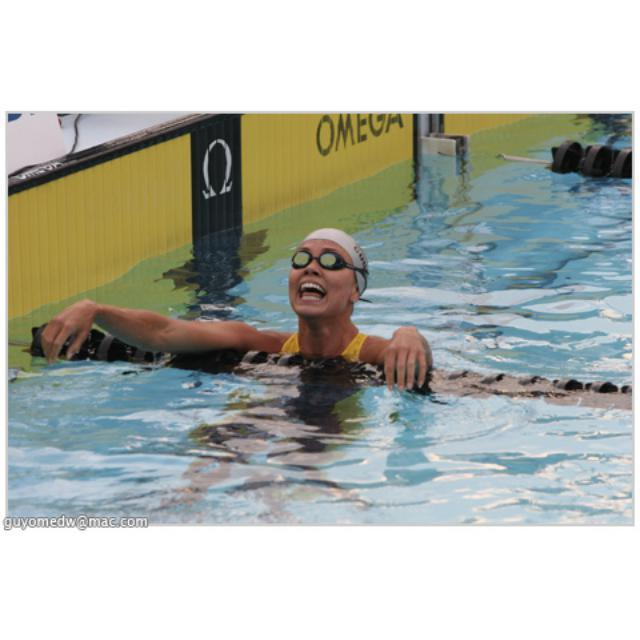human: (39, 228, 436, 394)
